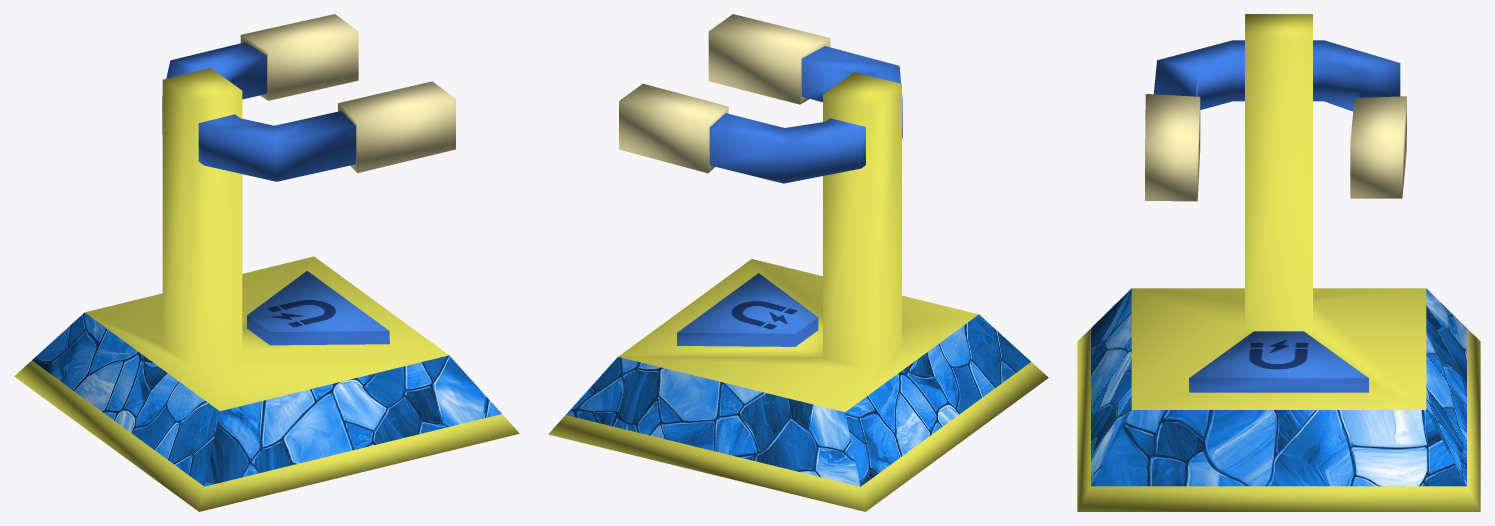
File: magnetCompressed.glb
3 renders of one model, left to right at view 1: azimuth 30°, elevation 25°; view 2: azimuth 150°, elevation 25°; view 3: azimuth 270°, elevation 25°, orthographic. The views are drawn at different scales.
Visible parts, largest first — view 1: Cube.001; view 2: Cube.001; view 3: Cube.001.
Boxes of the visible parts, x1,y1,x2,y2 form: Cube.001: (14,14,519,511); Cube.001: (548,14,1048,511); Cube.001: (1077,14,1480,511).
Bounding box in the file's own units: 1 × 1 × 1.
6 materials, 2 textured.
